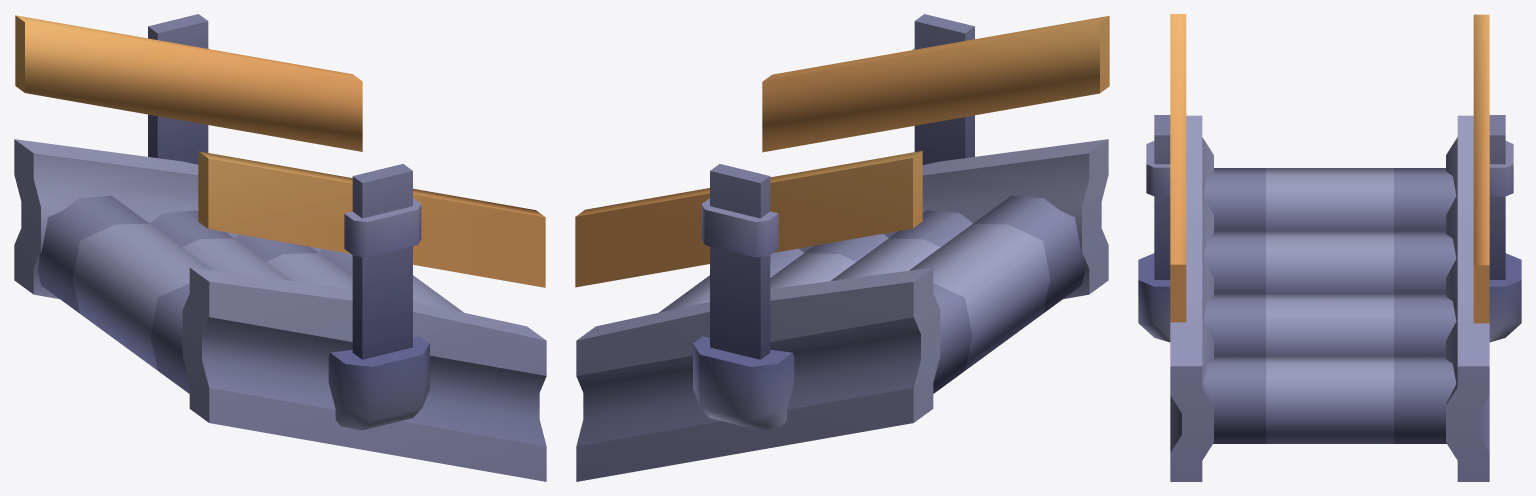
File: kenney-factory-conveyor-bars-stripe-fence-slope.glb
The picture shows the model from 3 angles, left to right: view 1: azimuth 30°, elevation 25°; view 2: azimuth 150°, elevation 25°; view 3: azimuth 270°, elevation 25°; orthographic projection. The views are drawn at different scales.
Parts seen in each view (by area): view 1: conveyor-bars-stripe-fence-slope; view 2: conveyor-bars-stripe-fence-slope; view 3: conveyor-bars-stripe-fence-slope.
Part boxes in pixels (<box>): conveyor-bars-stripe-fence-slope: <box>14,14,546,481</box>; conveyor-bars-stripe-fence-slope: <box>575,14,1109,481</box>; conveyor-bars-stripe-fence-slope: <box>1138,14,1521,481</box>.
Size of the model in its own units: 1.01 by 1.15 by 1.2.
1 material, 1 textured.
